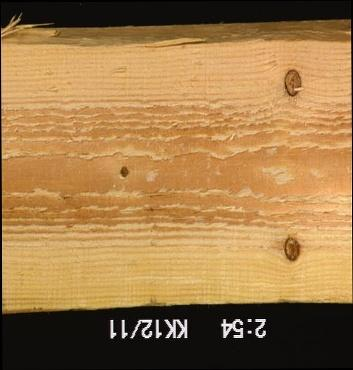dry_knot: (281, 66, 304, 98), (281, 235, 302, 263), (117, 163, 131, 180)
wave: (0, 20, 350, 51)
